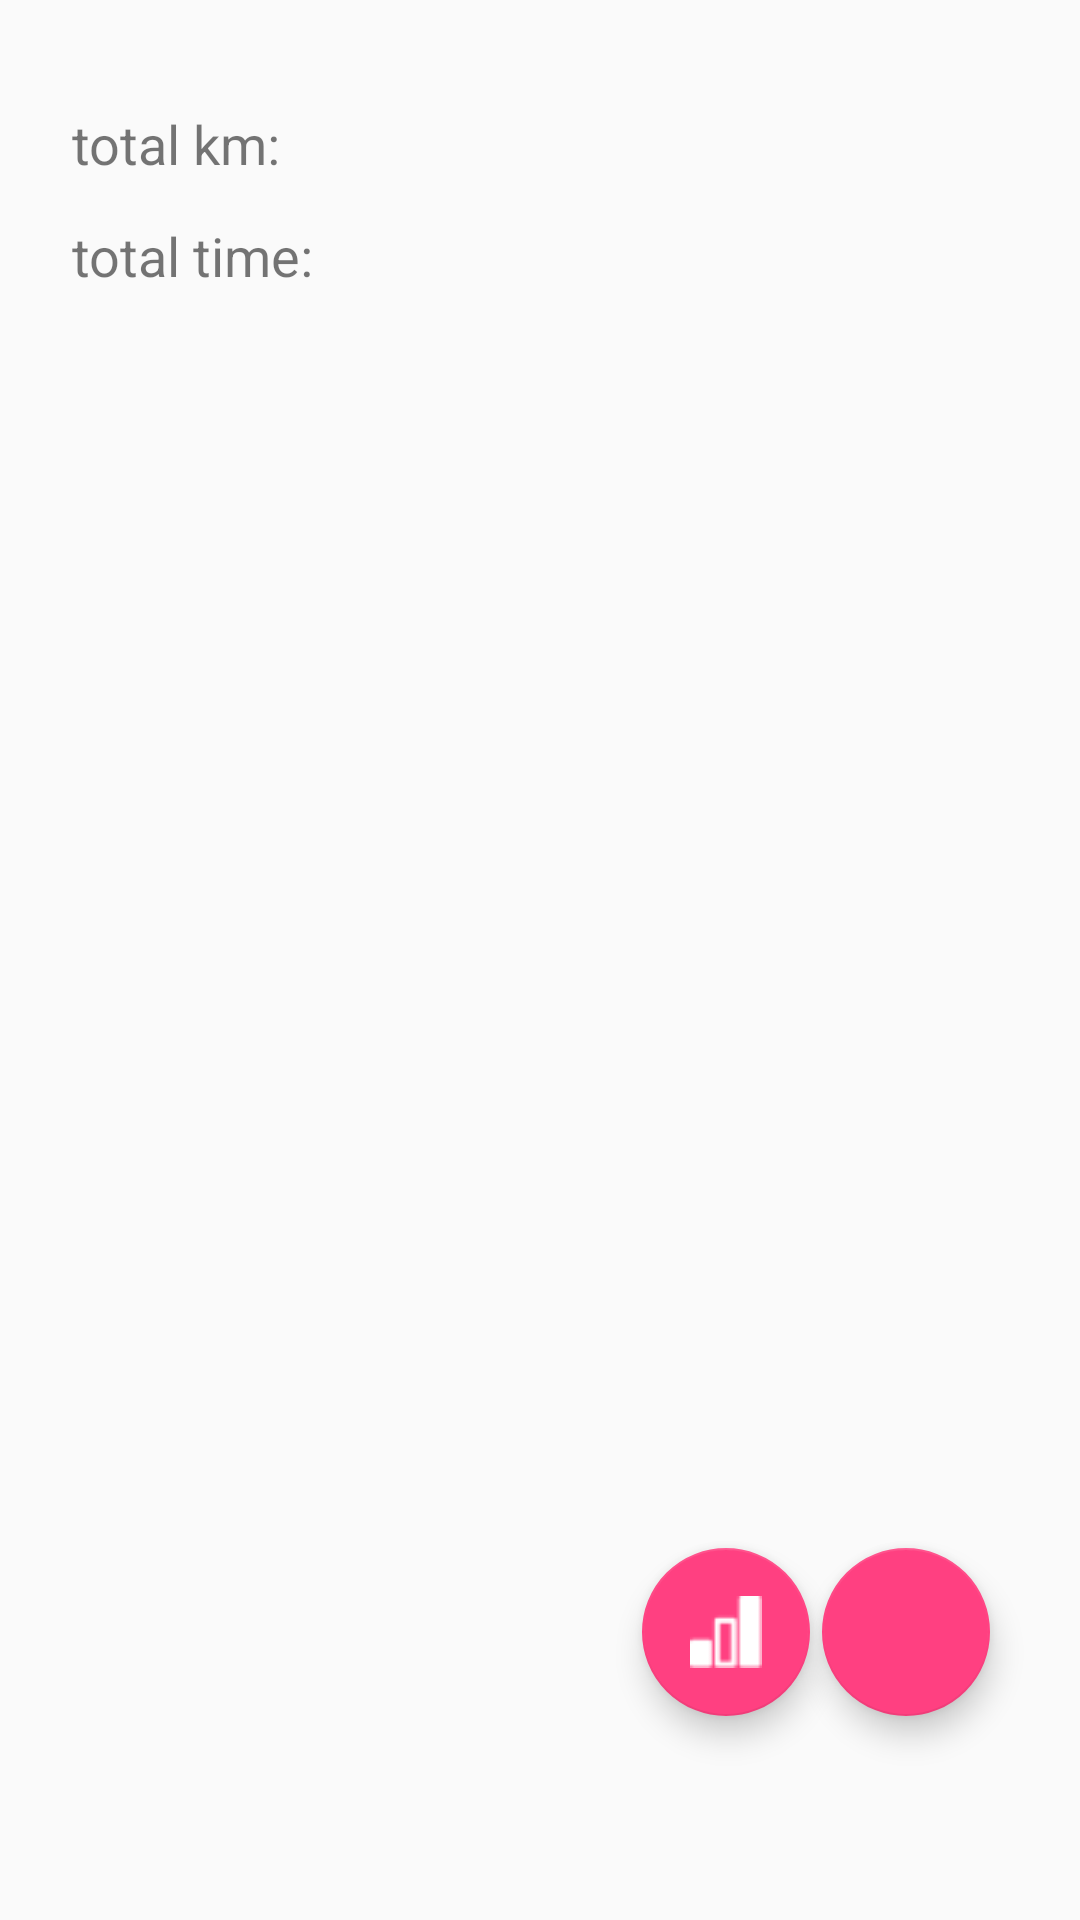

Named icons in this screenshot (1080*1920) and their centers, (x=x, y=y):
diagram: (x=726, y=1632)
